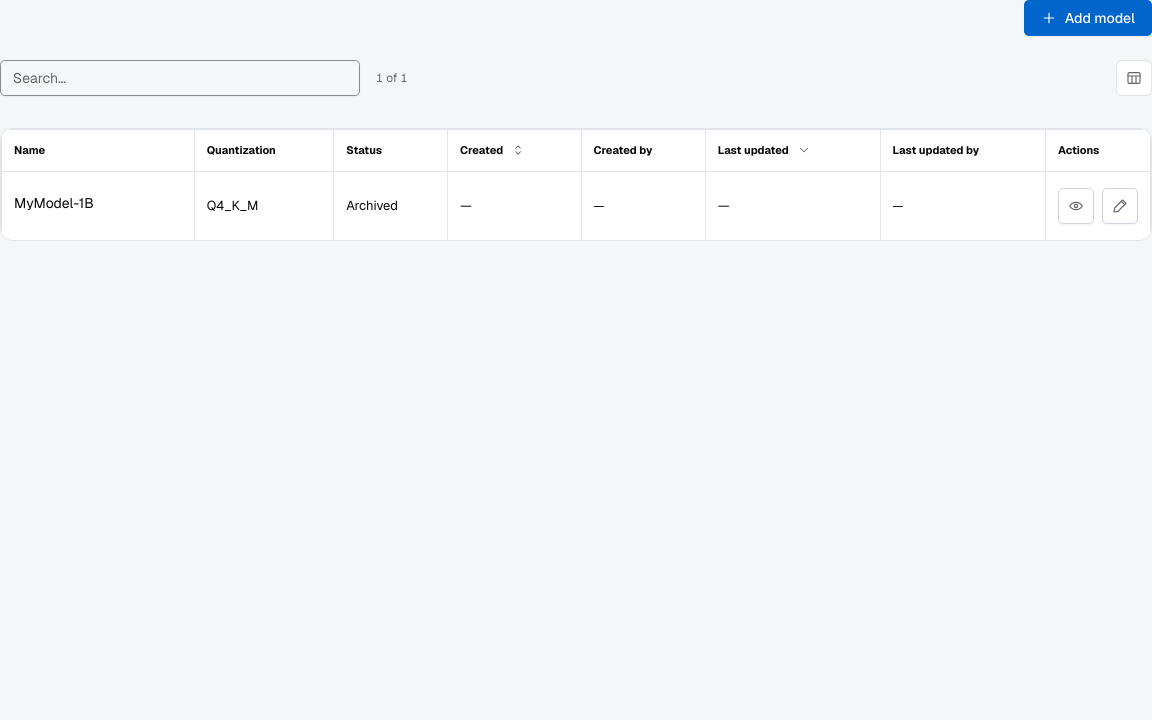
Model catalog › offers archived models for editing and restoration
Expected: the text "Archived" is shown, [334,171,448,240]
Step 1. Click the button named "Edit MyModel-1B" → (1120, 206), box [1102,188,1138,224]
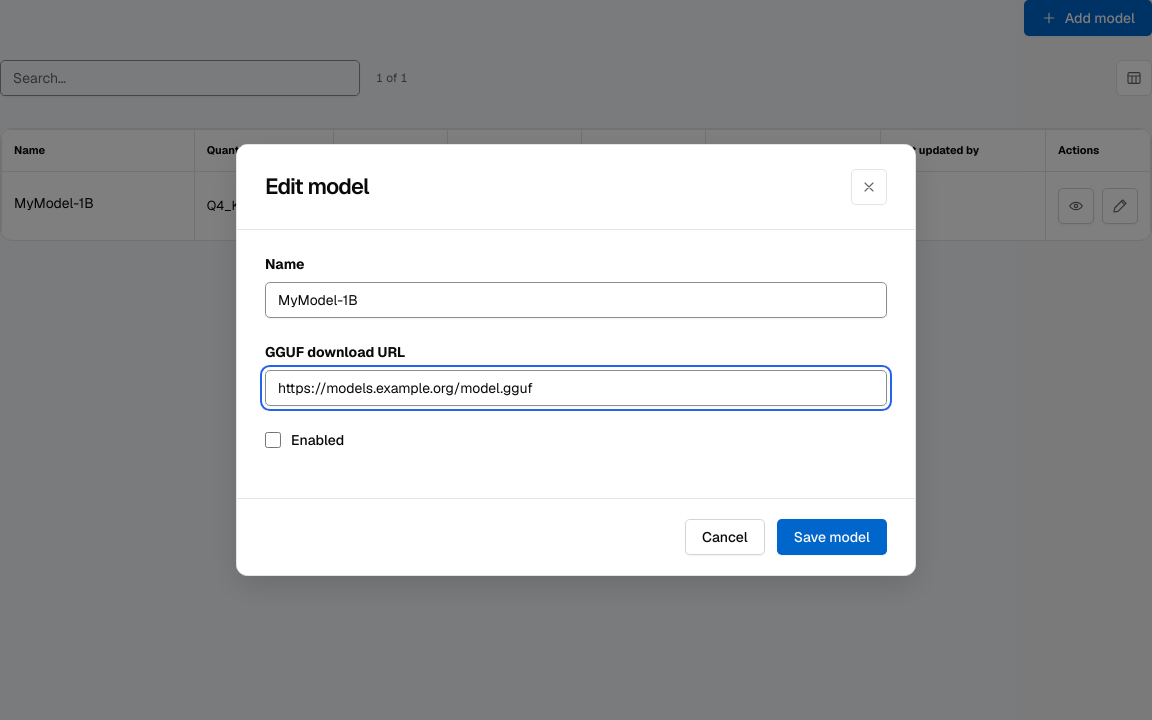
Now the checkbox labelled "Enabled" is not checked, box [265,432,281,448]
